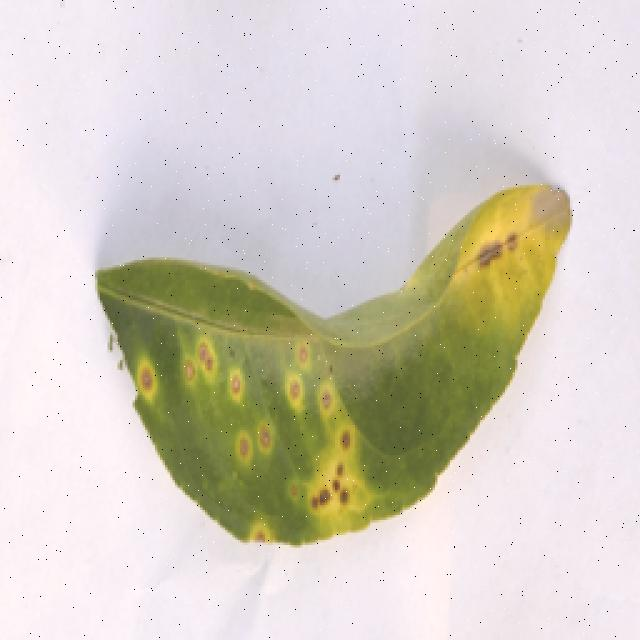canker: (89, 152, 562, 570)
